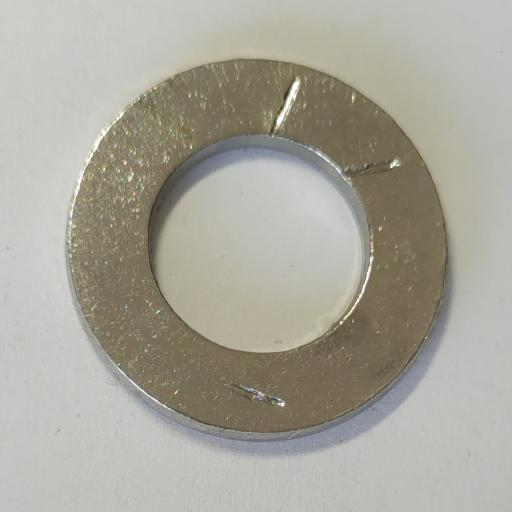scratch: (270, 77, 301, 138), (224, 381, 285, 408), (344, 159, 401, 177)
